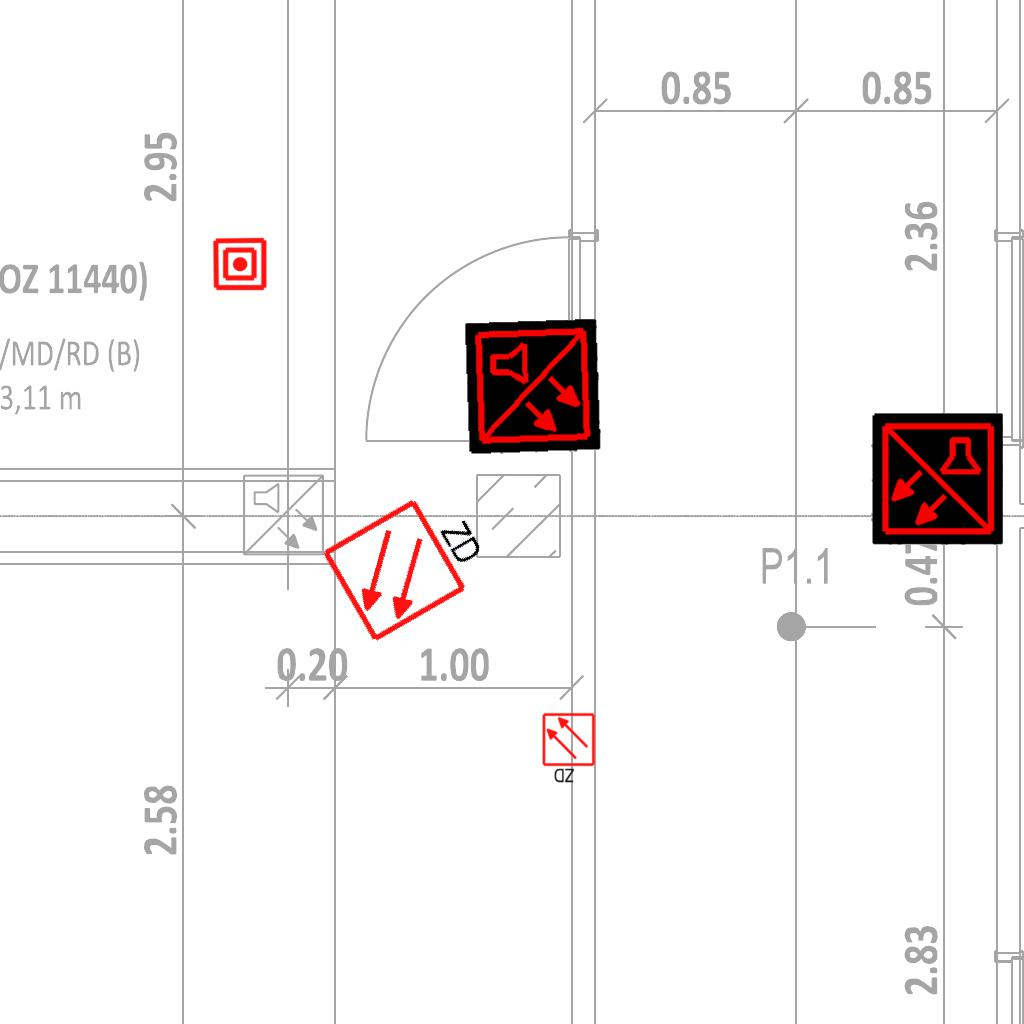NAM-Nichtautomatischer_Melder: (212, 236, 268, 292)
OKW_Multisensormelder_(Kombination_optischer_Rauch-Kahlenmonoxid_Waerme-Melder): (464, 318, 602, 456), (871, 413, 1003, 545)
ZD_Melder_in_Zwischendecke_mit_Revisionsoeffnung_mind_40_x_40_cm: (316, 472, 504, 647), (541, 712, 598, 786)
